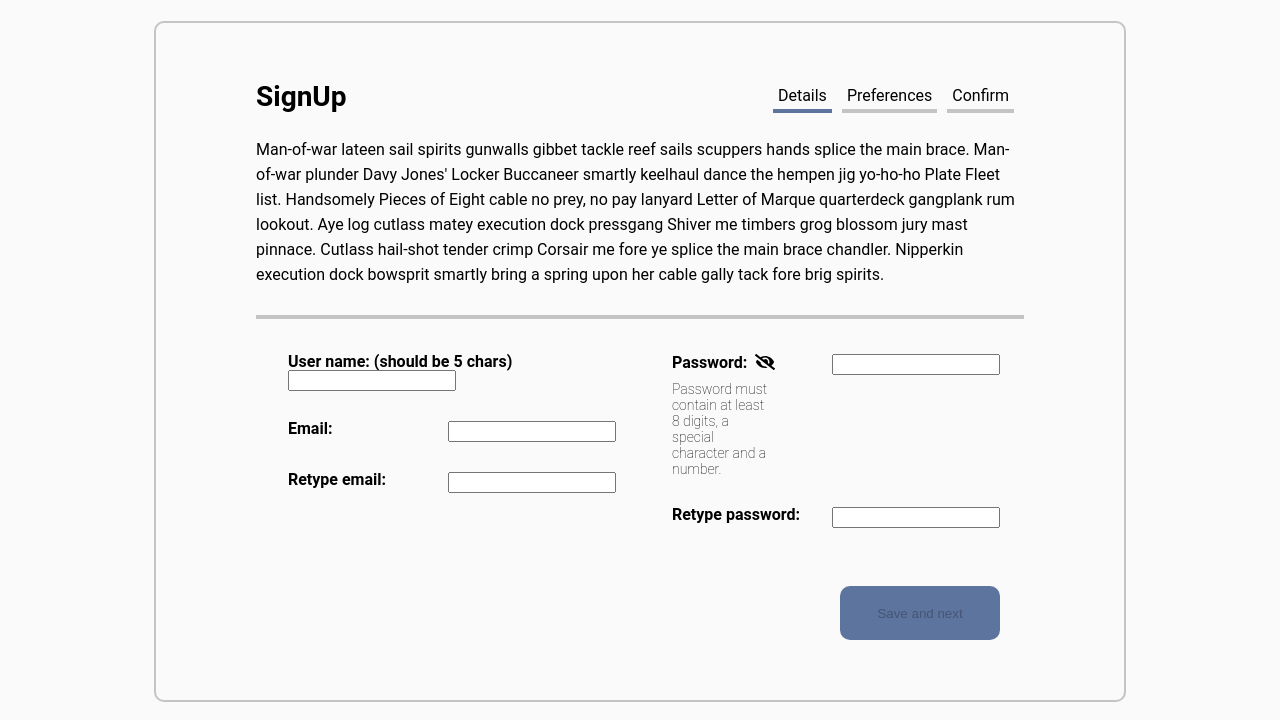
Test case: suceesfully completes happy path through details › can successfully get to the next page of the form
The image size is (1280, 720).
(page scrolled)
Expected: the text "Dogs allowed" is not shown
Type "humanPerson" into the field named "userName" at coordinates (372, 381), box [288,370,456,391]
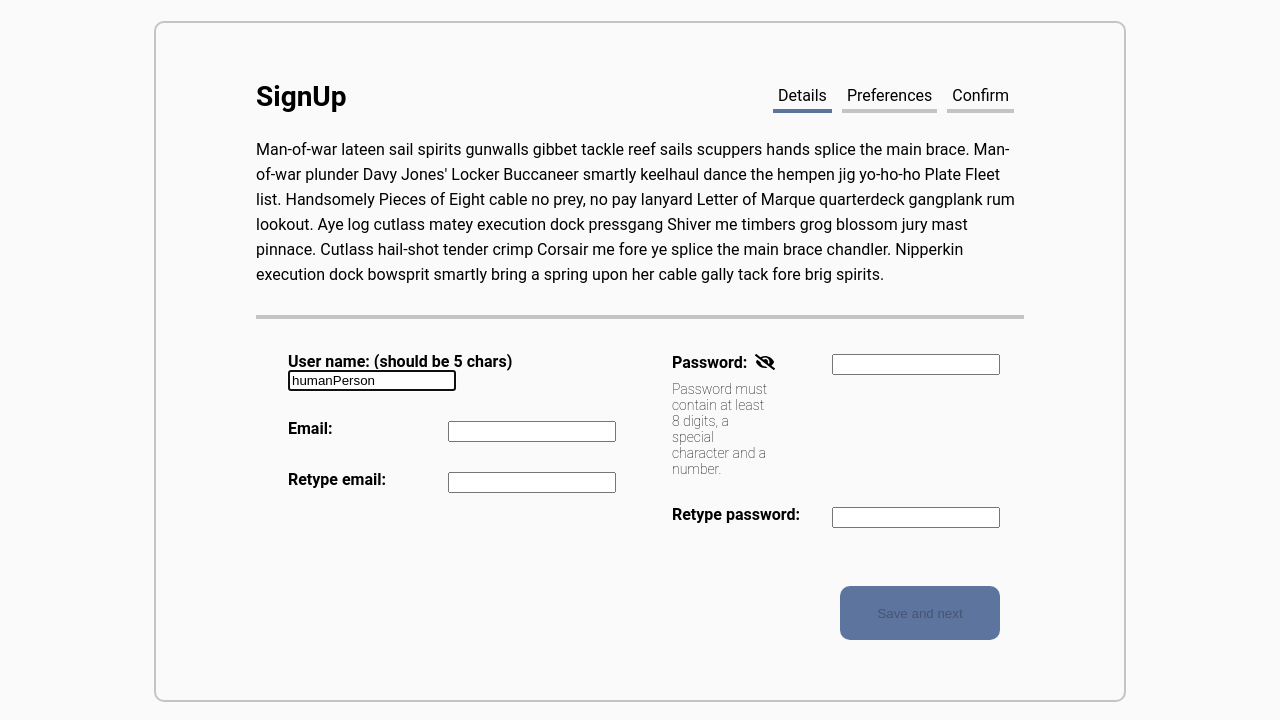
Type "person@gmail.com" into the field named "email" at coordinates (532, 432), box [448,421,616,442]
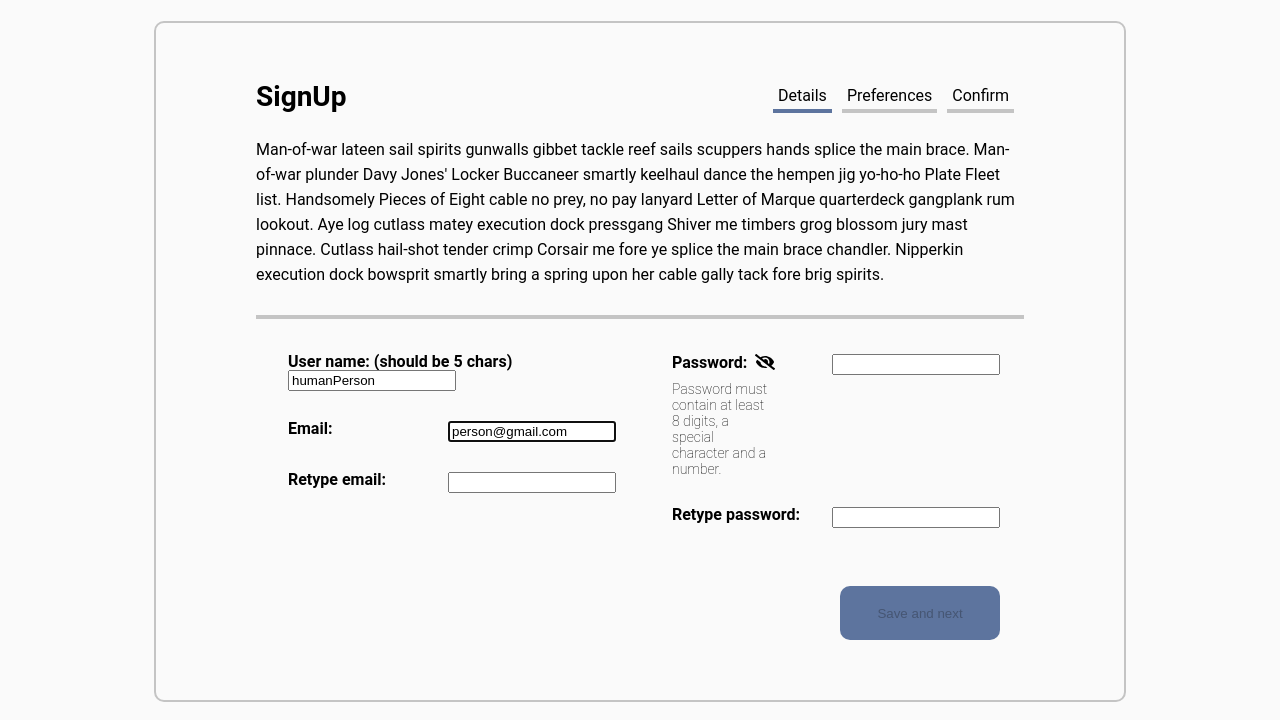
Type "person@gmail.com" into the field named "emailRetype" at coordinates (532, 483), box [448,472,616,493]
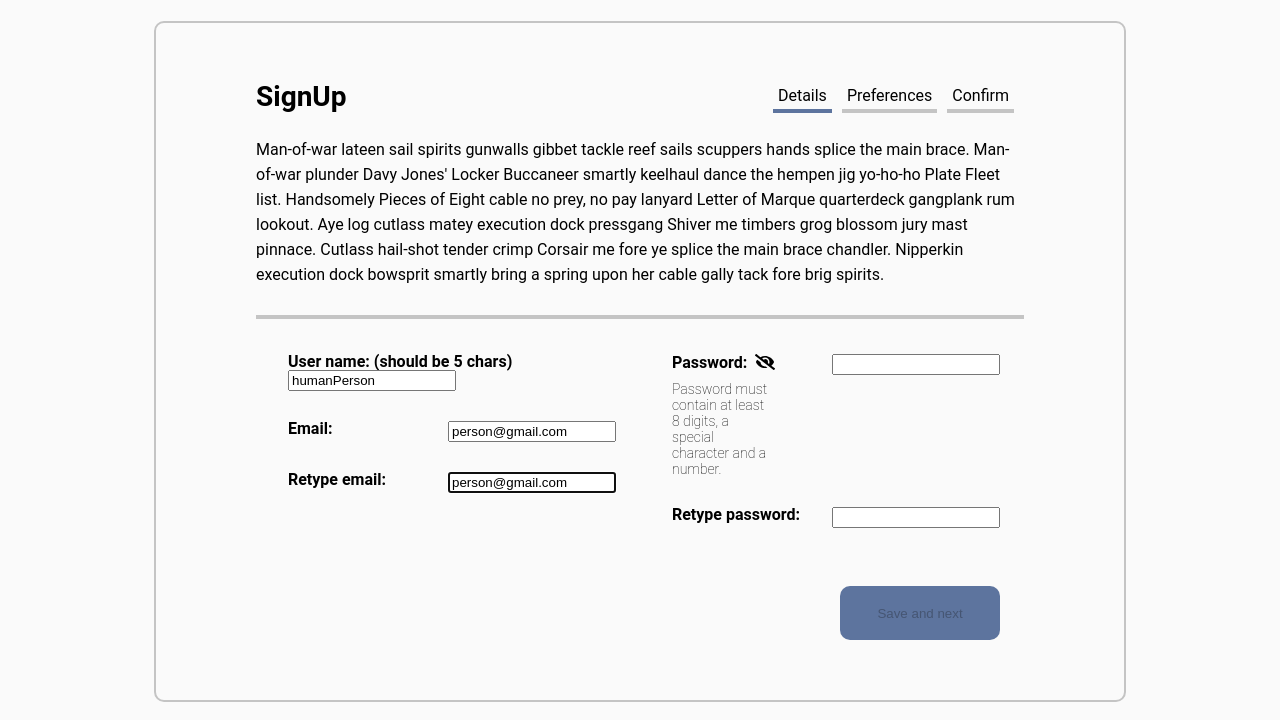
Type "person1!" into the password field named "password" at coordinates (916, 365), box [832,354,1000,375]
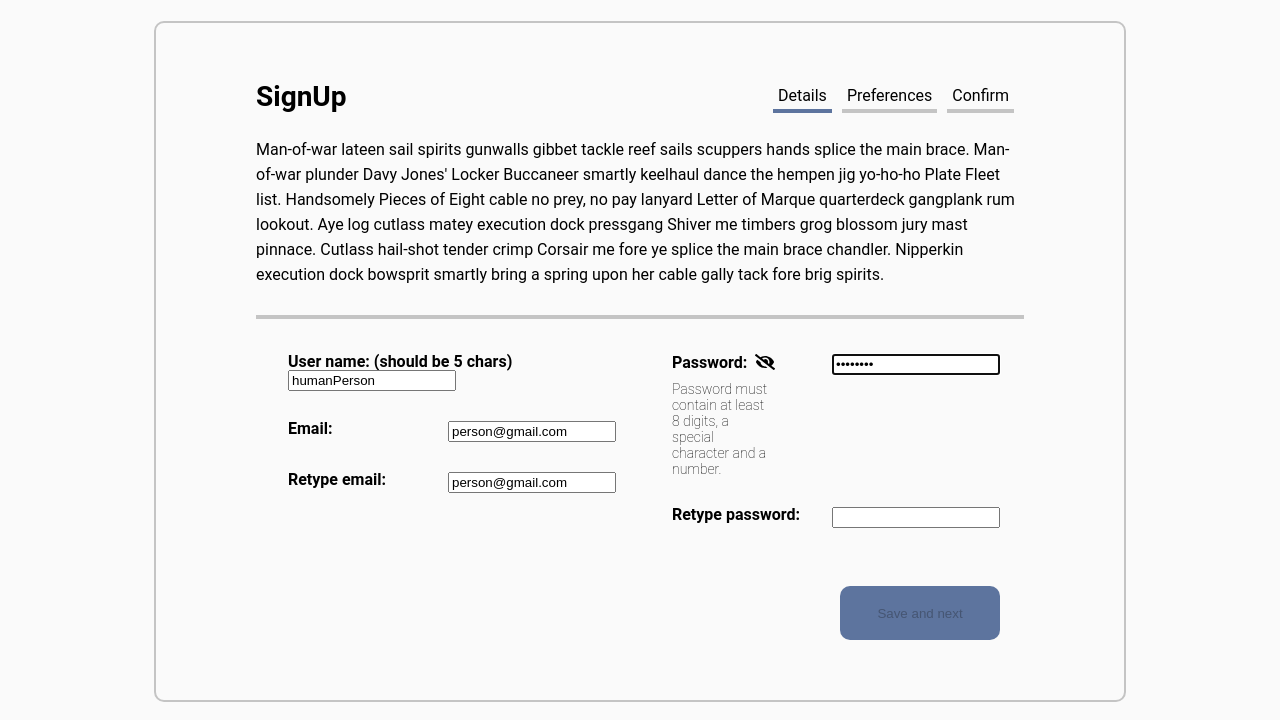
Type "person1!" into the password field named "passwordRetype" at coordinates (916, 518), box [832,507,1000,528]
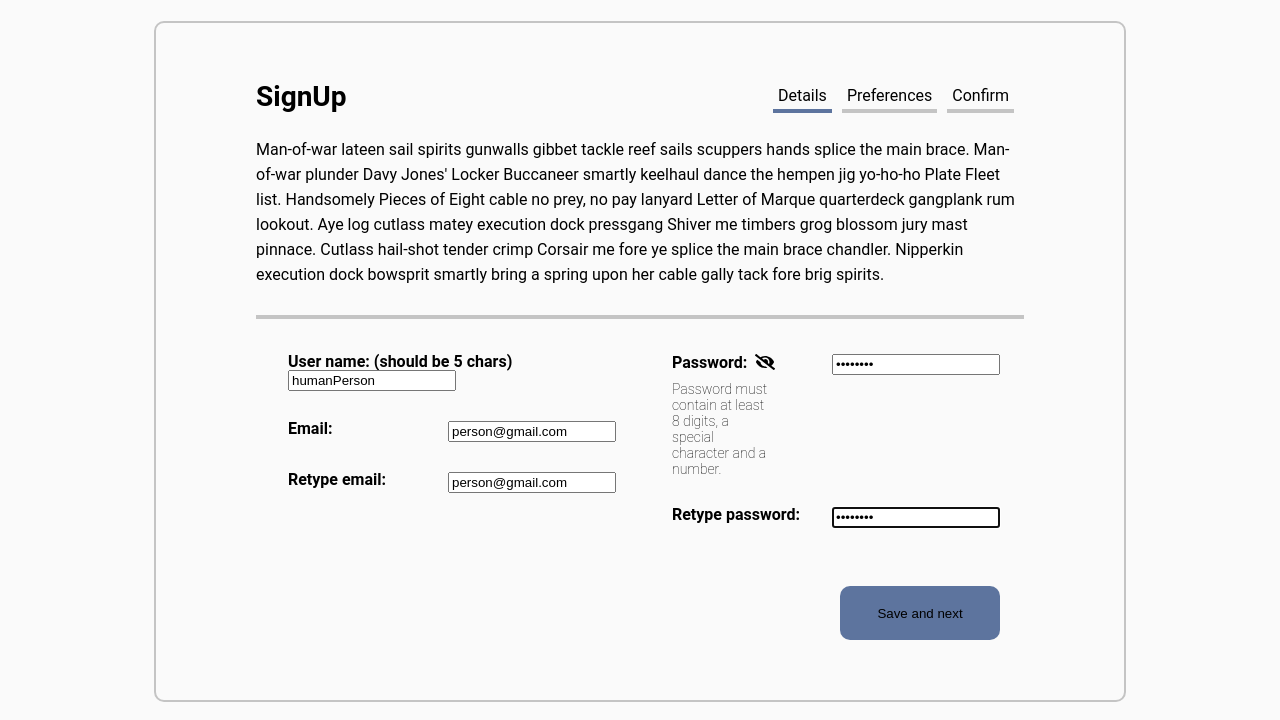
Click the button "Save and next" at coordinates (920, 613), box [840,586,1000,640]
(page scrolled)
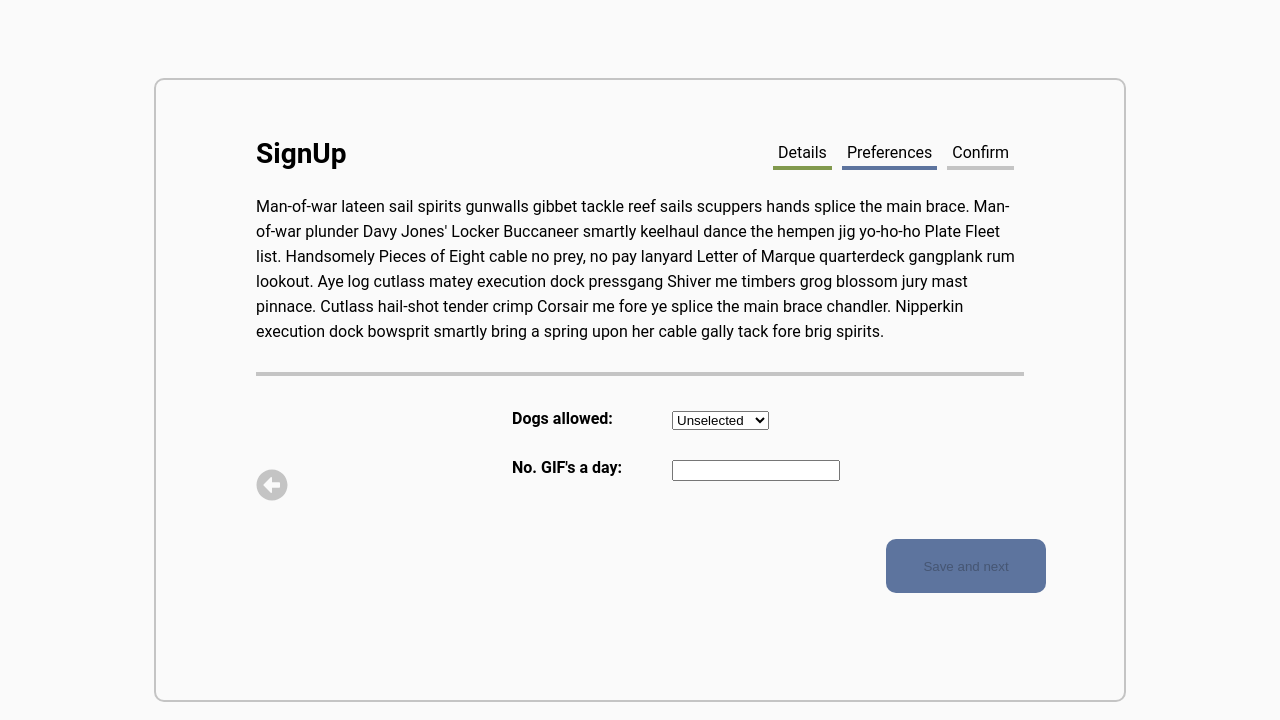
Now the text "Dogs allowed" is shown, box [512,411,613,430]
